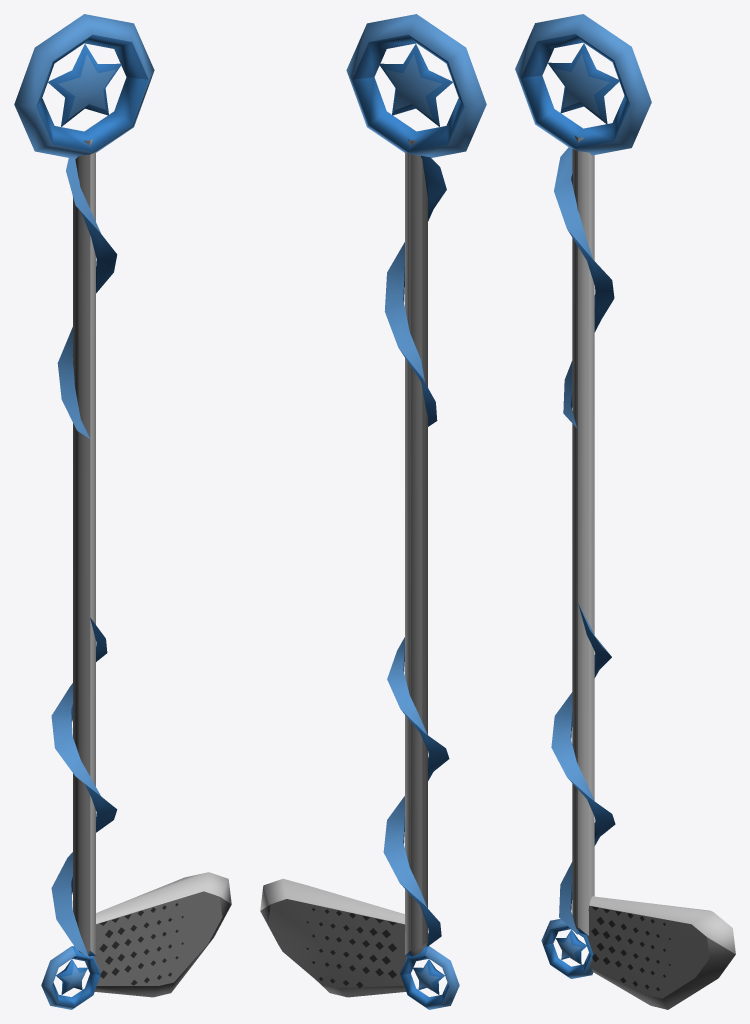
3 renders of one model, left to right at view 1: azimuth 30°, elevation 25°; view 2: azimuth 150°, elevation 25°; view 3: azimuth 330°, elevation 25°, orthographic. The views are drawn at different scales.
Parts seen in each view (by area): view 1: rainbow_club; view 2: rainbow_club; view 3: rainbow_club.
Part boxes in pixels (x1,y1,x2,y2): rainbow_club: (14, 14, 231, 1009); rainbow_club: (260, 14, 486, 1009); rainbow_club: (515, 14, 735, 1009).
Size of the model in its own units: 0.3718 by 1.6 by 0.0989.
Materials: 1 (1 with a texture image).
